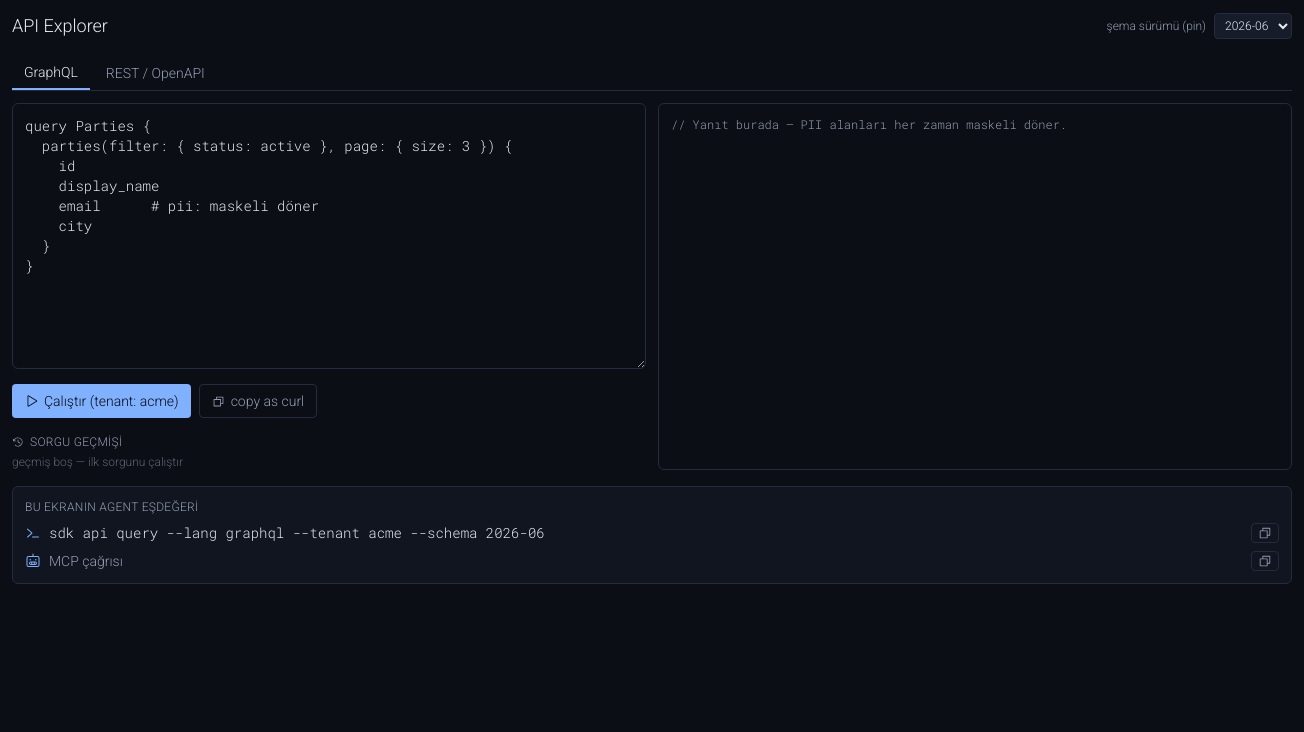
Scenario: API Explorer — sorgu geçmişi ve curl › çalıştırınca geçmişe düşer; curl kopyalama butonu var
Expected: the text "geçmiş boş — ilk sorgunu çalıştır" is shown, top-left (12, 455), bottom-right (183, 469)
Click the button "Çalıştır (tenant: acme)": (101, 401) top-left (12, 384), bottom-right (191, 418)
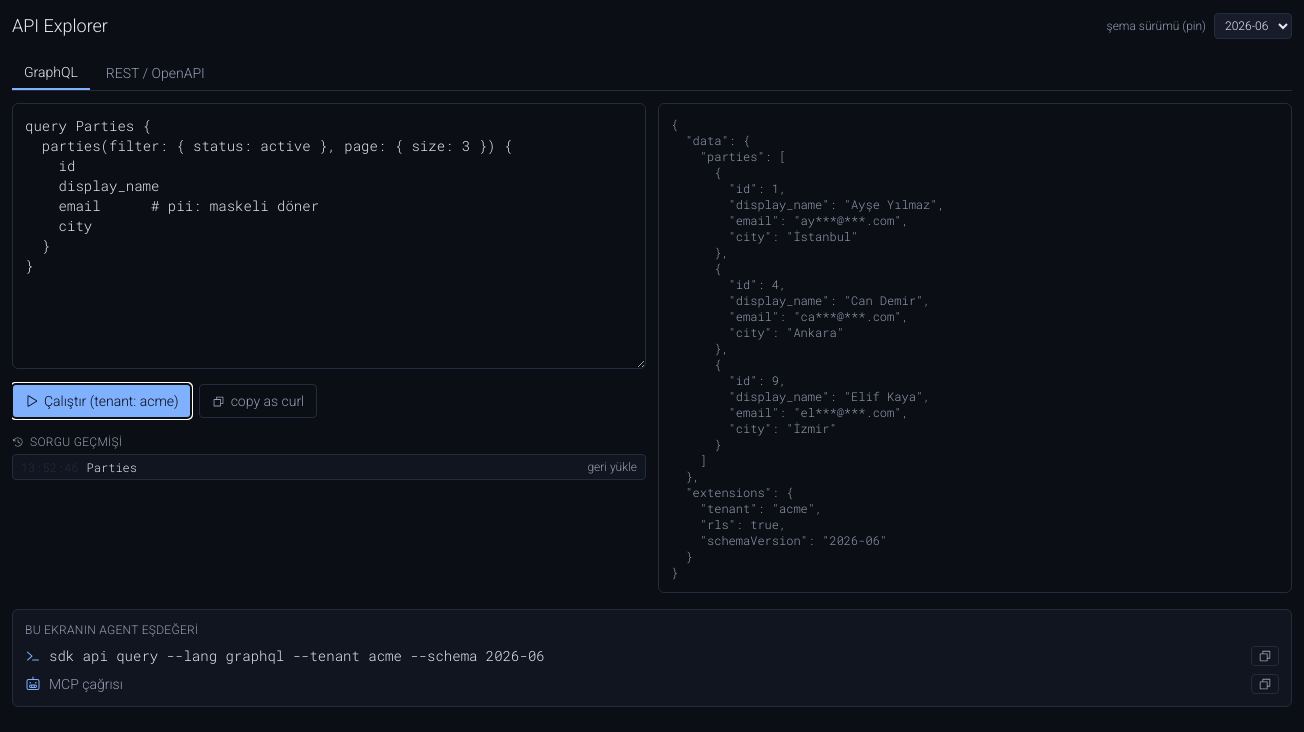
Expected: the button "copy as curl" is shown, top-left (199, 384), bottom-right (317, 418)
Expected: the text "geçmiş boş" is gone
